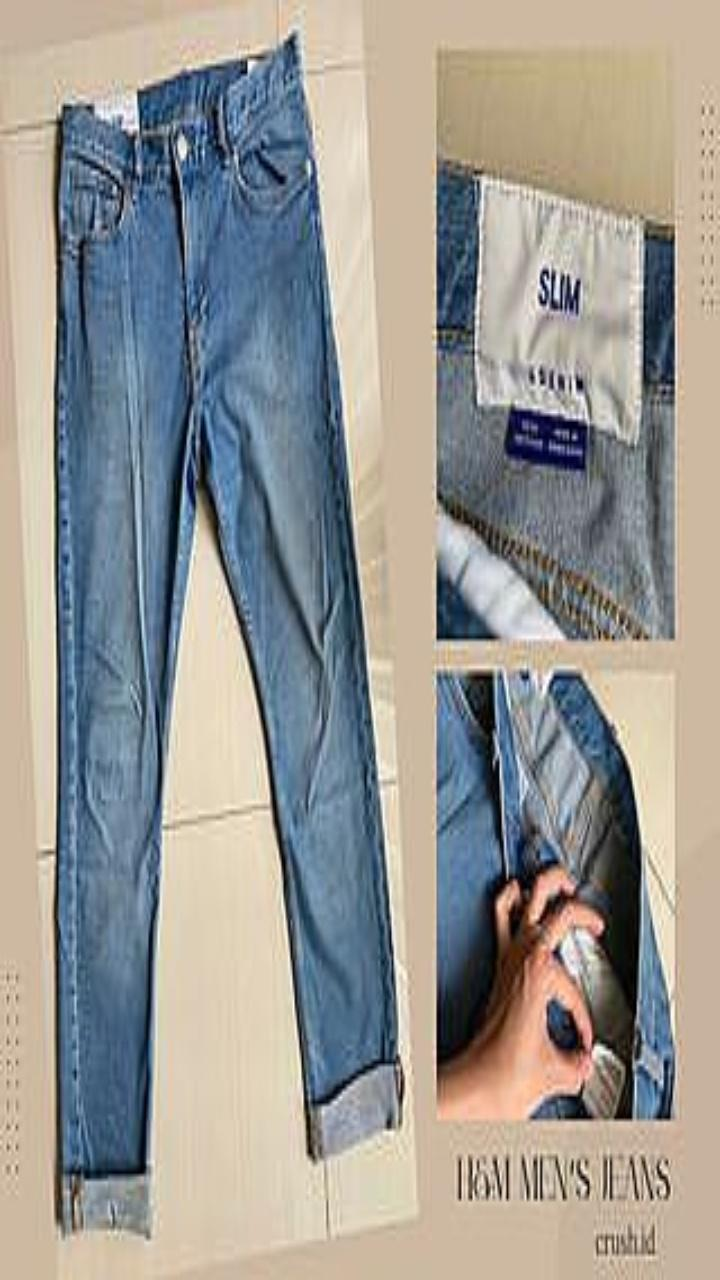Jeans: (57, 37, 401, 1233), (437, 162, 674, 638), (437, 673, 674, 1118)
